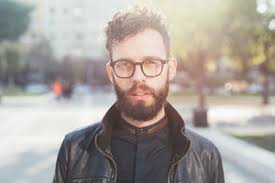white_male: (108, 40, 175, 112)
